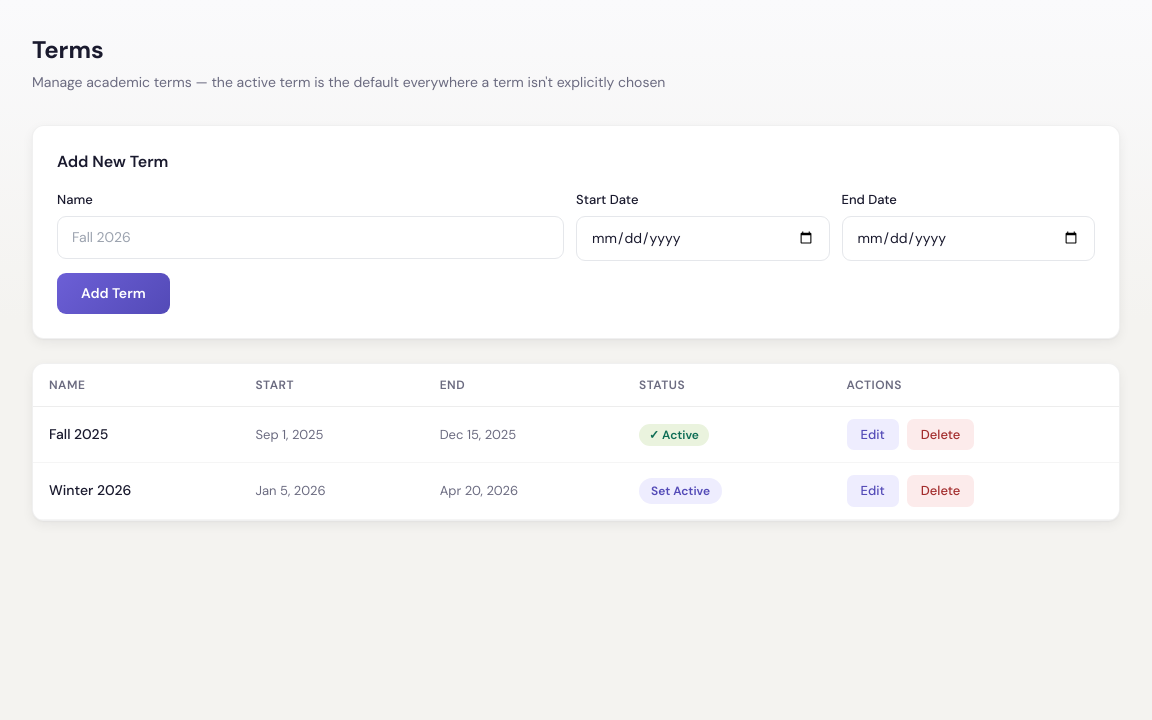
AdminTerms › deletes a term
Expected: the text "Winter 2026" is shown, x1=33 y1=462 x2=240 y2=519
Click the button "Delete" in the row of "Winter 2026".
click(941, 491)  # box x1=907 y1=475 x2=974 y2=506
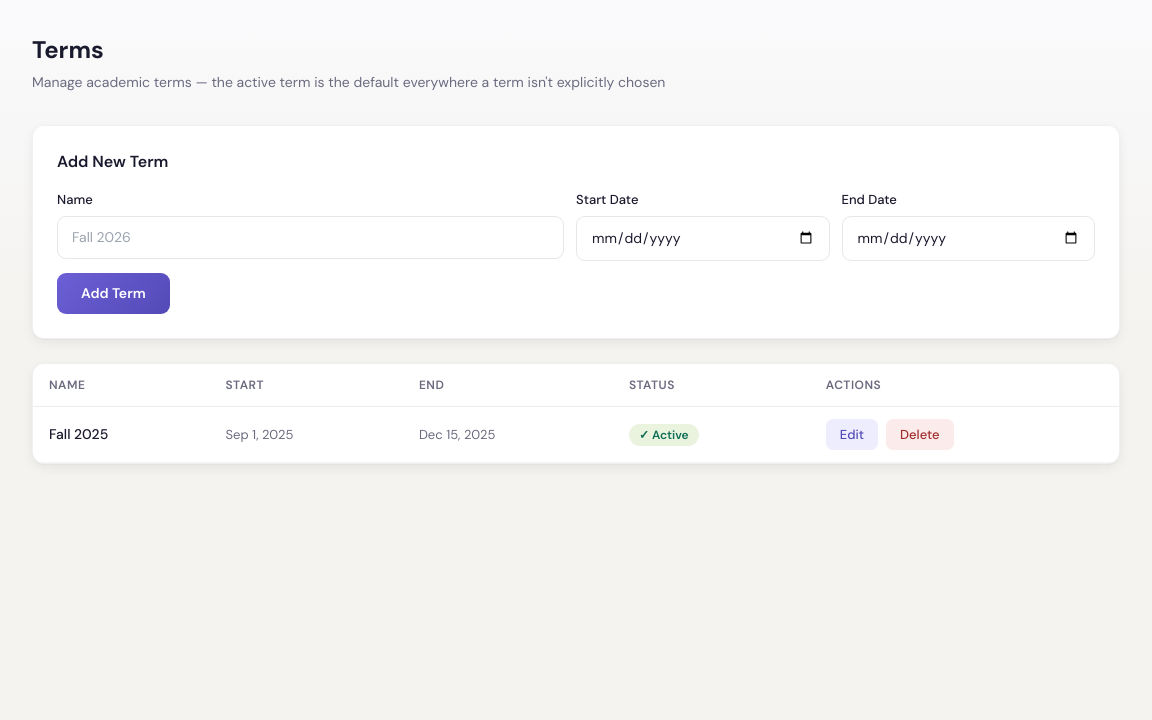
Expected: the text "Winter 2026" is gone
